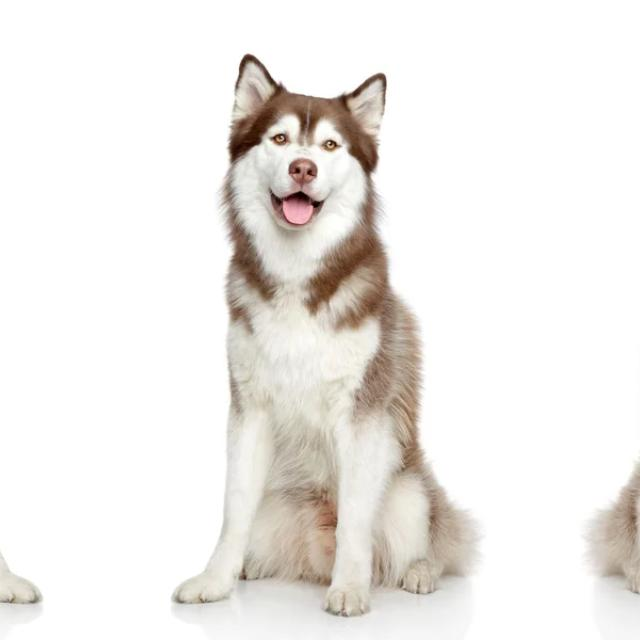dog: (152, 20, 492, 610), (572, 20, 640, 610), (0, 20, 60, 610)
